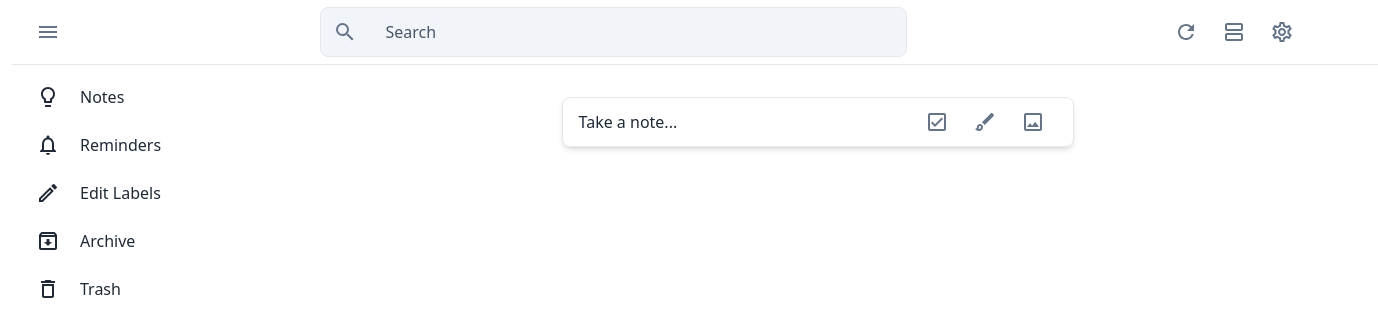
note adding › the note will be posted if the title has text, but the textcontent is empty
Click the text "Take a note..." at (628, 122), box [578,111,677,133]
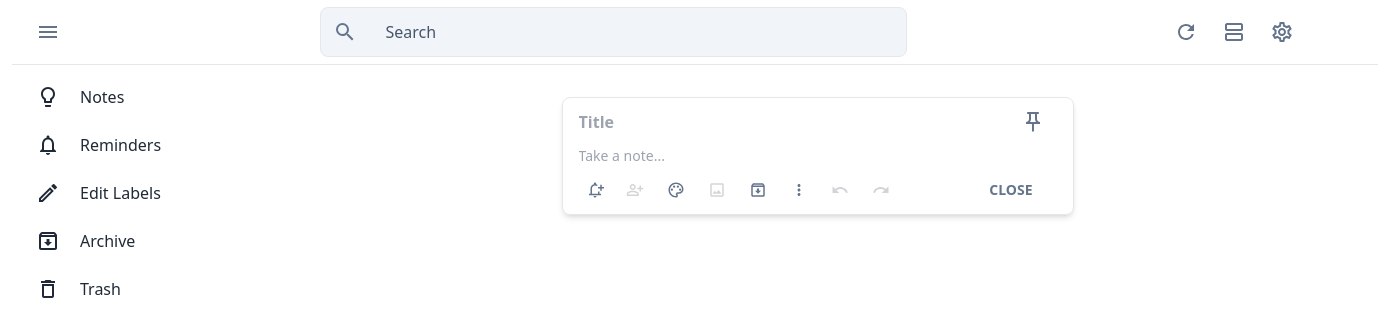
Type "This is a test title" into the field with placeholder "Title" at (794, 122), box [578,98,1008,146]
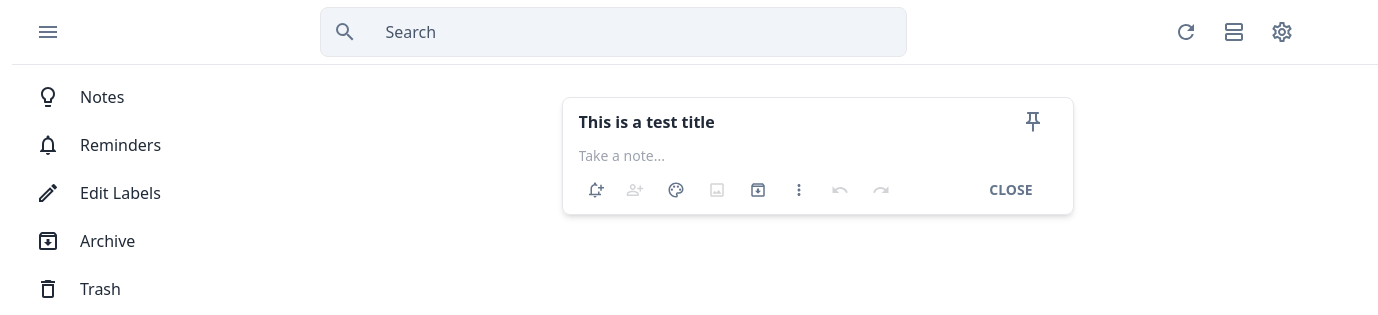
Click the button "Close" at (1011, 190), box [965,174,1057,206]
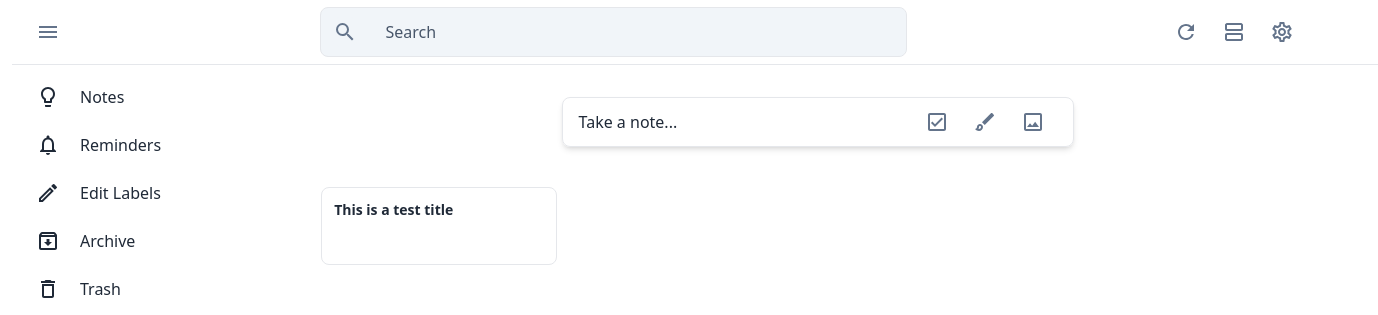
Now the text "This is a test title" is shown, box [334,200,453,219]
